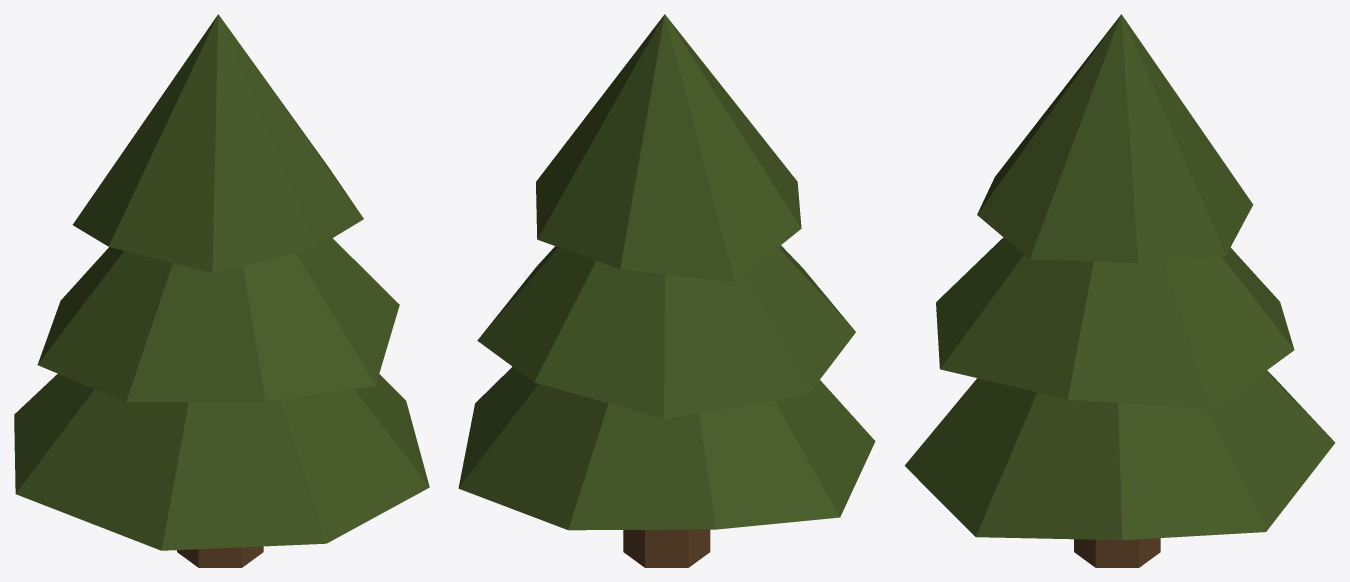
Rendered from conifer_tree.glb.
3 renders of one model, left to right at view 1: azimuth 30°, elevation 25°; view 2: azimuth 150°, elevation 25°; view 3: azimuth 270°, elevation 25°, orthographic.
Parts seen in each view (by area): view 1: leaf bot_0, leaf mid_1, leaf top_2, tree base_3; view 2: leaf bot_0, leaf mid_1, leaf top_2, tree base_3; view 3: leaf bot_0, leaf mid_1, leaf top_2, tree base_3.
Part boxes in pixels (x1,y1,x2,y2): leaf bot_0: (14, 374, 429, 550); leaf mid_1: (37, 238, 399, 402); leaf top_2: (72, 14, 363, 273); tree base_3: (177, 546, 263, 567); leaf bot_0: (458, 366, 875, 530); leaf mid_1: (477, 245, 855, 418); leaf top_2: (536, 14, 801, 282); tree base_3: (623, 529, 710, 567); leaf bot_0: (904, 370, 1335, 540); leaf mid_1: (936, 237, 1294, 409); leaf top_2: (977, 14, 1253, 263); tree base_3: (1074, 538, 1160, 567).
Bounding box in the file's own units: 1.44 × 1.96 × 1.42.
